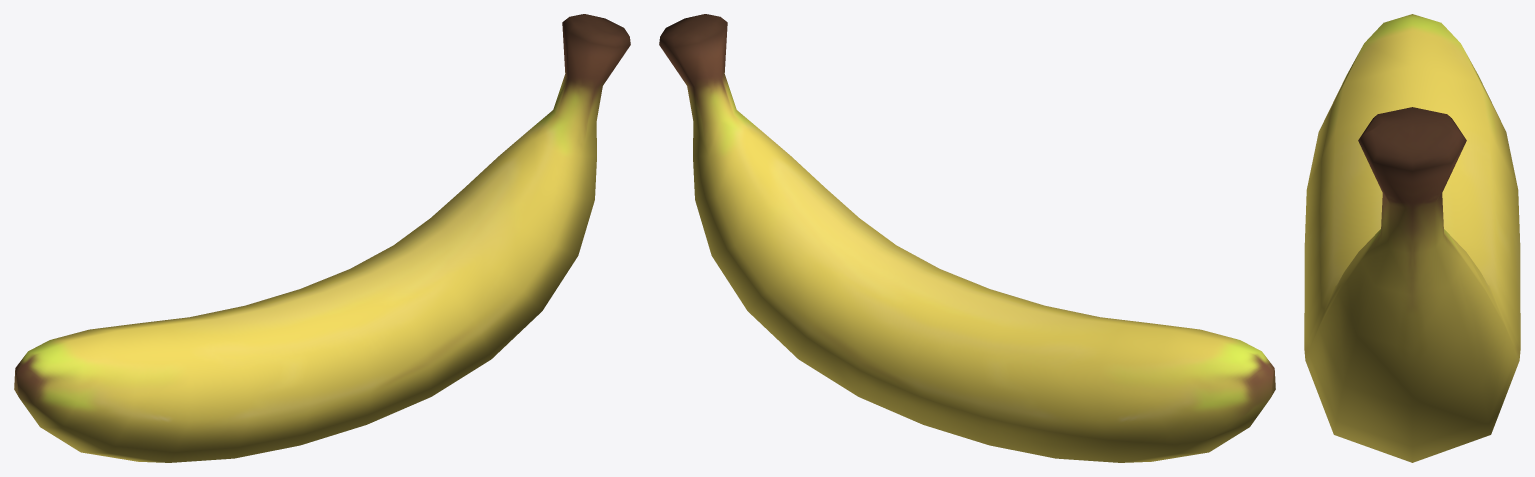
Rendered from Banana.fbx.
The picture shows the model from 3 angles, left to right: view 1: azimuth 30°, elevation 25°; view 2: azimuth 150°, elevation 25°; view 3: azimuth 270°, elevation 25°; orthographic projection. The views are drawn at different scales.
Parts seen in each view (by area): view 1: Banana; view 2: Banana; view 3: Banana.
Part boxes in pixels (x1=…): Banana: x1=14, y1=14, x2=630, y2=462; Banana: x1=659, y1=14, x2=1275, y2=462; Banana: x1=1304, y1=14, x2=1520, y2=462.
Bounding box in the file's own units: 0.0753 × 0.3454 × 0.1872.
